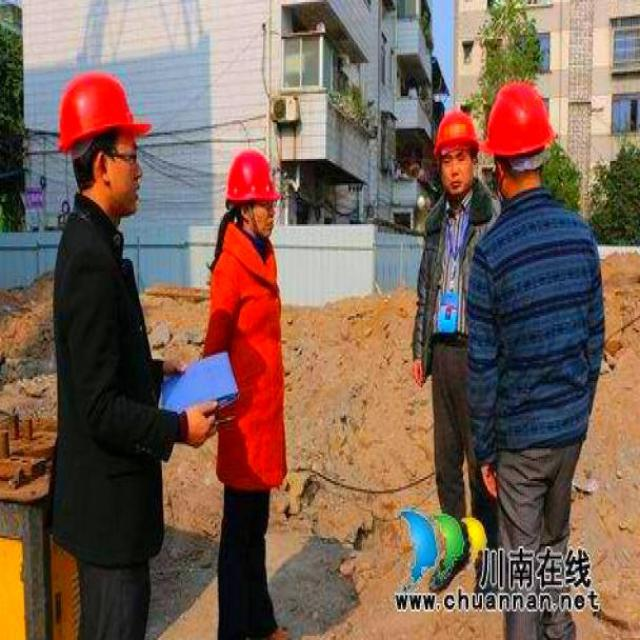helmet: (49, 67, 148, 214), (482, 71, 554, 204), (223, 118, 289, 247), (428, 92, 483, 206)
